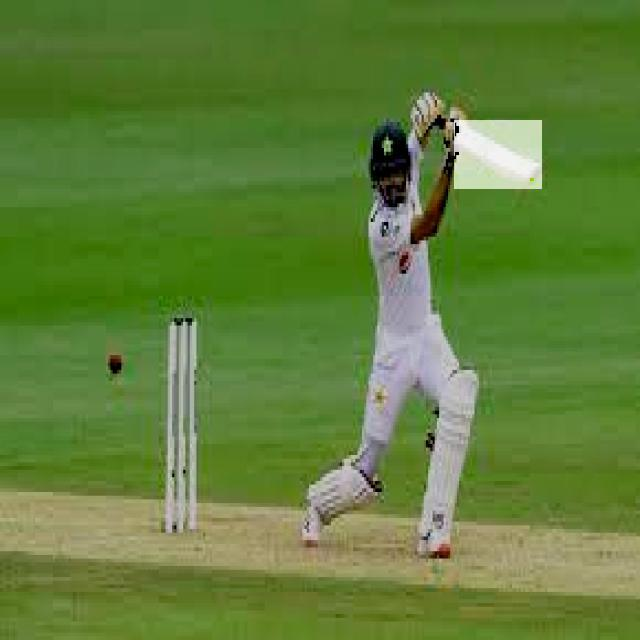bat: (451, 122, 542, 191)
toe: (517, 163, 549, 186)
